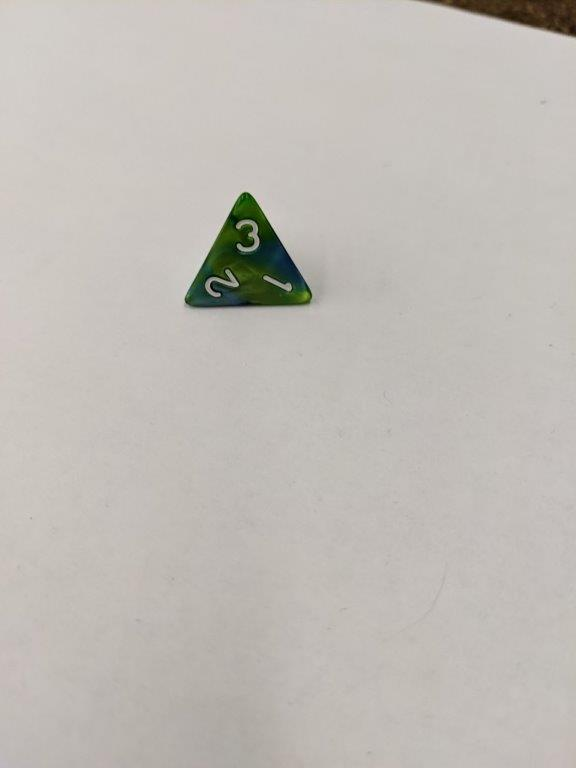d4-3: (182, 191, 316, 313)
